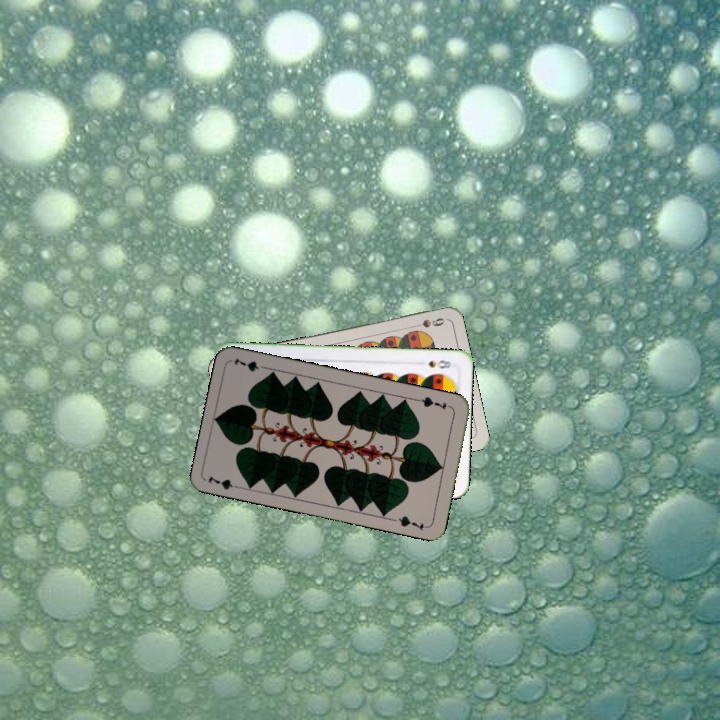G7: (414, 392, 455, 412), (204, 472, 244, 492)
S8: (424, 356, 454, 371)
S9: (407, 314, 447, 331)
